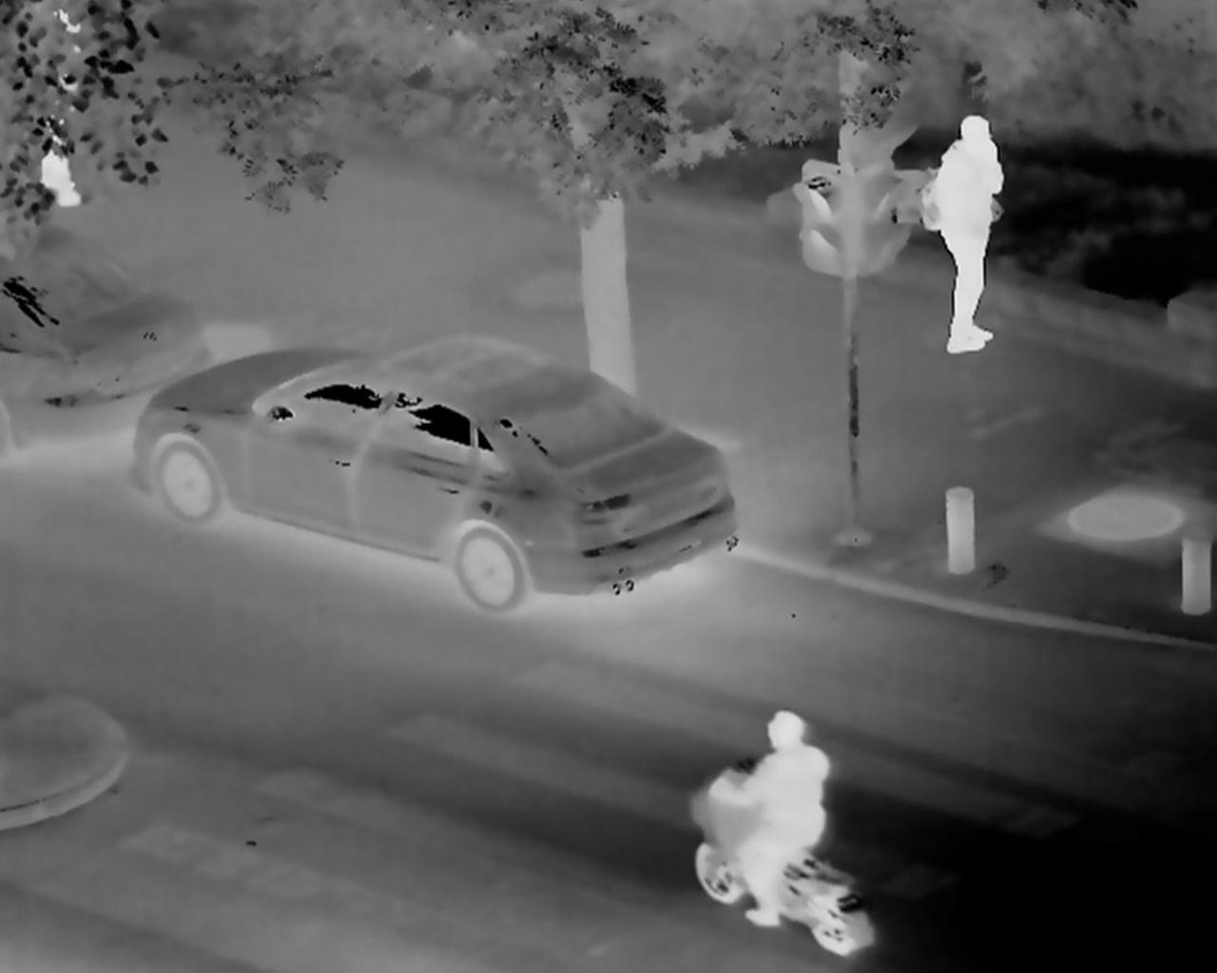person: (706, 707, 838, 933), (925, 111, 1000, 358), (22, 3, 102, 219)
